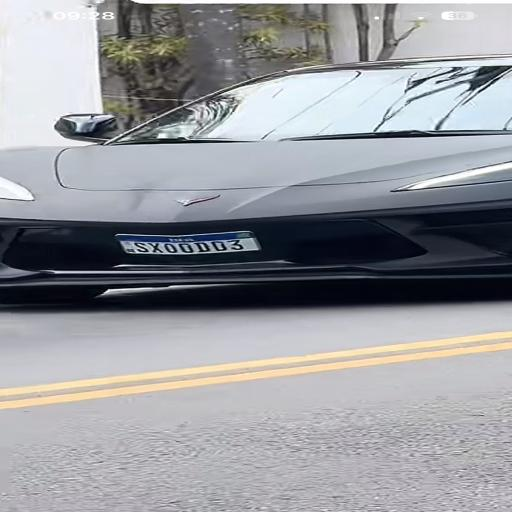detec-o-placas: (57, 192, 367, 310)
